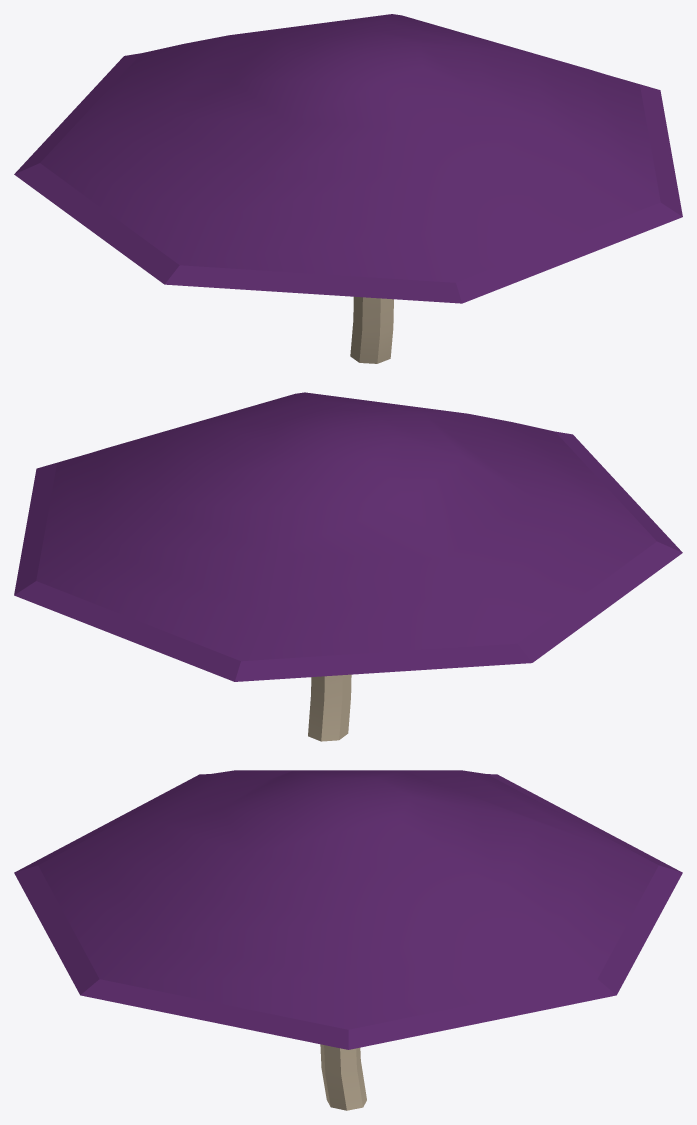
Rendered from shortMushroom.fbx.
3 renders of one model, top to bottom at view 1: azimuth 30°, elevation 25°; view 2: azimuth 150°, elevation 25°; view 3: azimuth 270°, elevation 25°, orthographic.
Parts seen in each view (by area): view 1: pasted__pCylinder3; view 2: pasted__pCylinder3; view 3: pasted__pCylinder3.
Boxes of the visible parts, x1,y1,x2,y2 form: pasted__pCylinder3: (14,14,682,363); pasted__pCylinder3: (14,392,682,741); pasted__pCylinder3: (14,770,682,1110).
Bounding box in the file's own units: 6.8 × 3.44 × 6.98.
Materials: 1 (1 with a texture image).
